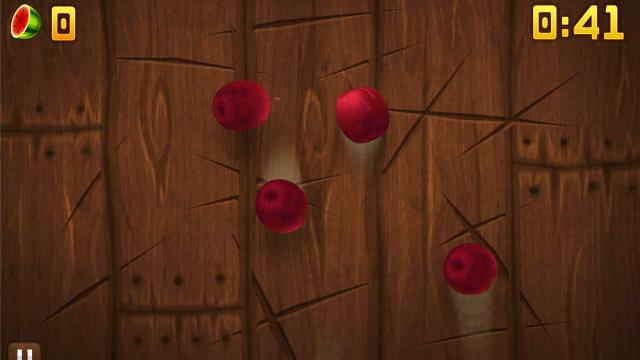fruit: (332, 84, 392, 144), (208, 77, 272, 133), (252, 175, 310, 236), (442, 243, 498, 298)
